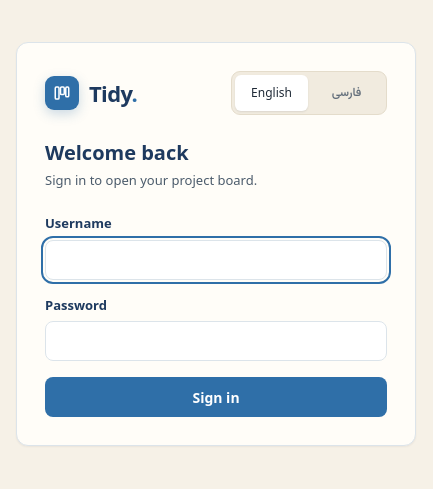
SignIn › says so when the server cannot be reached
In the field labelled "Username": (216, 260) [45,240,387,280], type "user"
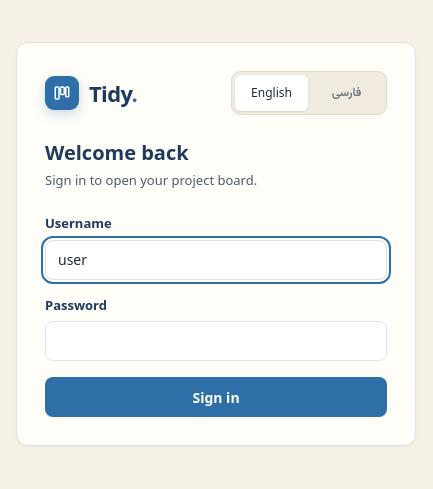
In the password field labelled "Password": (216, 341) [45,321,387,361], type "password"
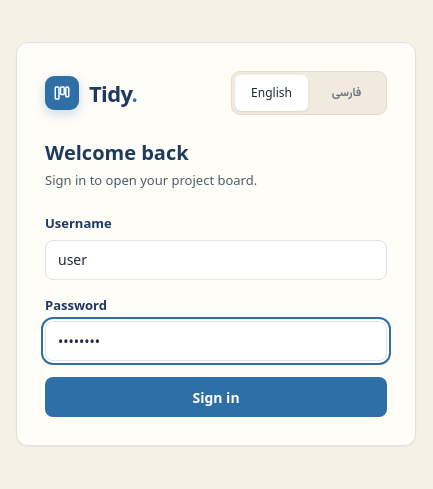
Click the button "Sign in": (216, 397) [45,377,387,417]
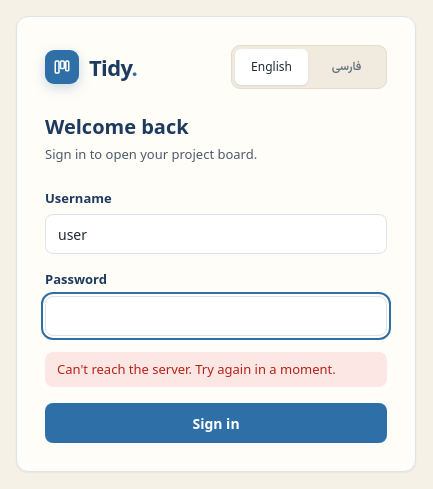
Expected: the message shows "Can't reach the server", [57,360,336,378]
